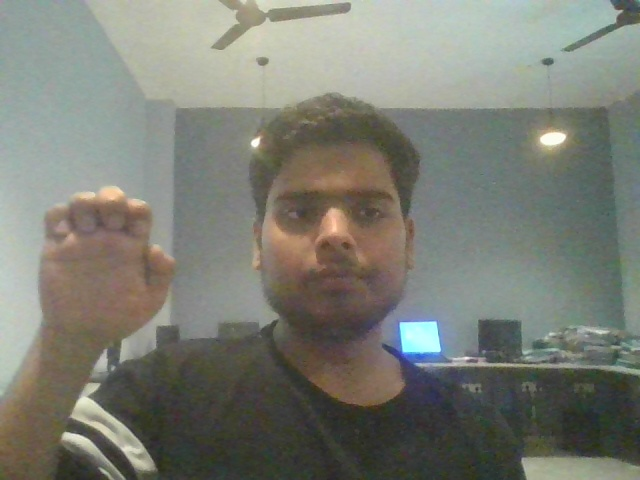C: (26, 177, 194, 364)
